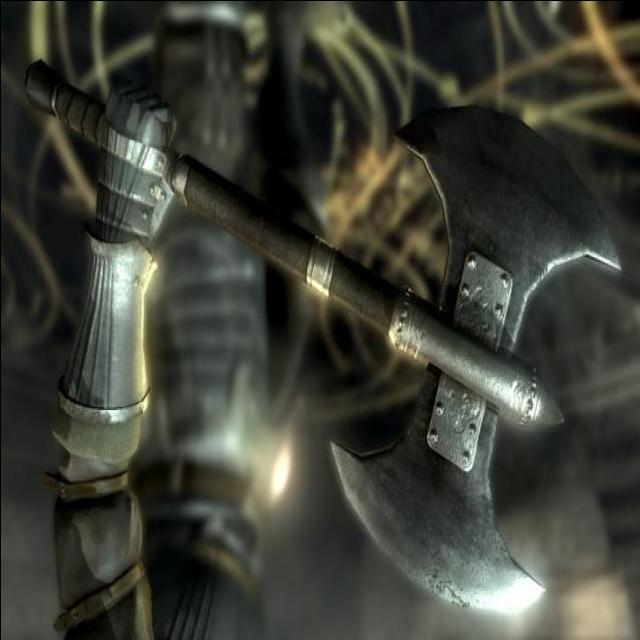axe: (23, 63, 623, 618)
